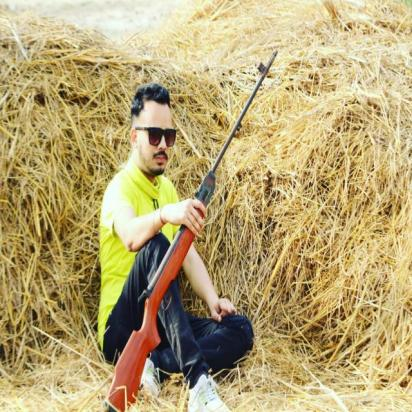Gun: (102, 48, 279, 411)
